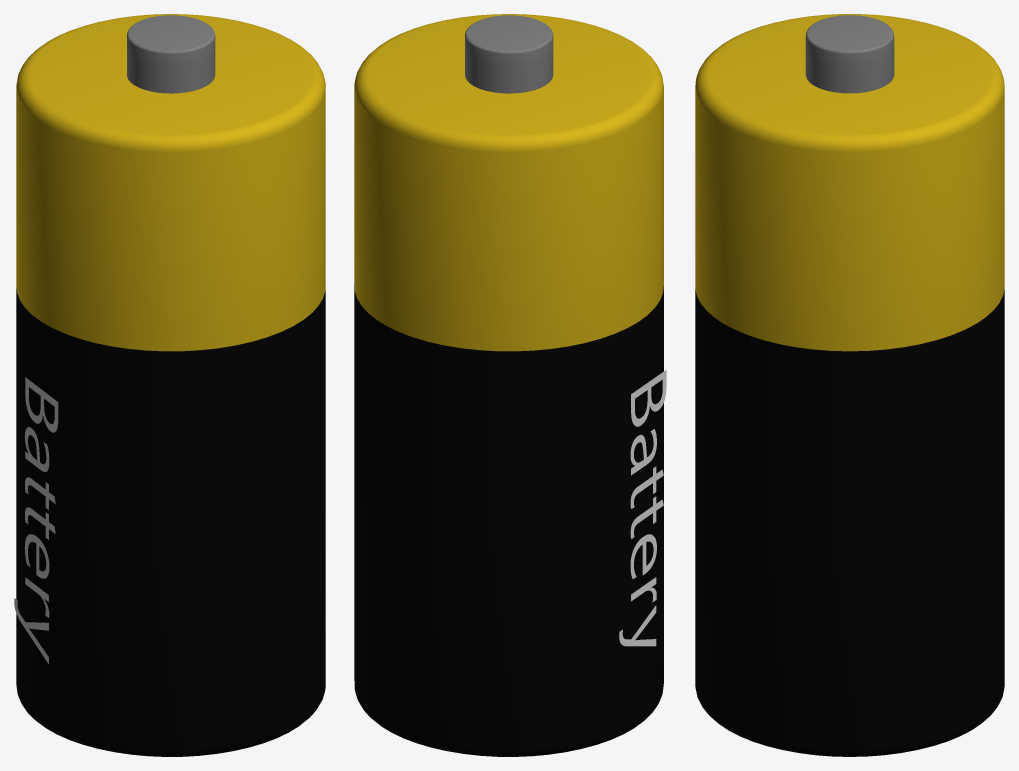
File: battery.fbx
The picture shows the model from 3 angles, left to right: view 1: azimuth 30°, elevation 25°; view 2: azimuth 150°, elevation 25°; view 3: azimuth 270°, elevation 25°; orthographic projection.
Visible parts, largest first — view 1: Cylinder; view 2: Cylinder; view 3: Cylinder.
Part boxes in pixels (x1,y1,x2,y2): Cylinder: [14, 14, 325, 756]; Cylinder: [354, 14, 666, 756]; Cylinder: [695, 14, 1004, 756].
Bounding box in the file's own units: 69.46 × 163 × 69.17.
